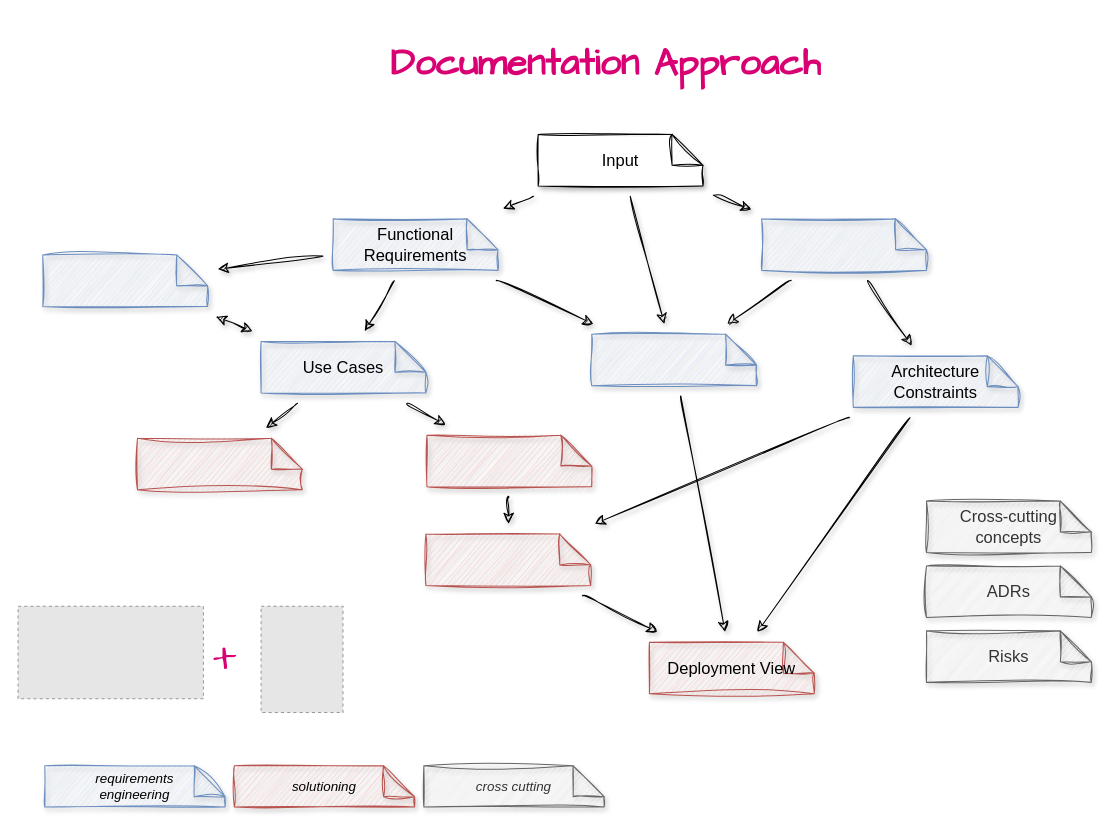
Image size: 1115x832. Some labels were removed from this diagram. Grey dashed boxes stand in for pictures. Here are the shapes that lost their labels. From the top down, the centre of each, then its label:
At pixel 845 246: "Technical Requirements".
At pixel 126 282: "Actors".
At pixel 675 361: "Non -Functional Requirements".
At pixel 220 465: "Runtime View".
At pixel 510 462: "Domains".
At pixel 509 561: "Logical View".
